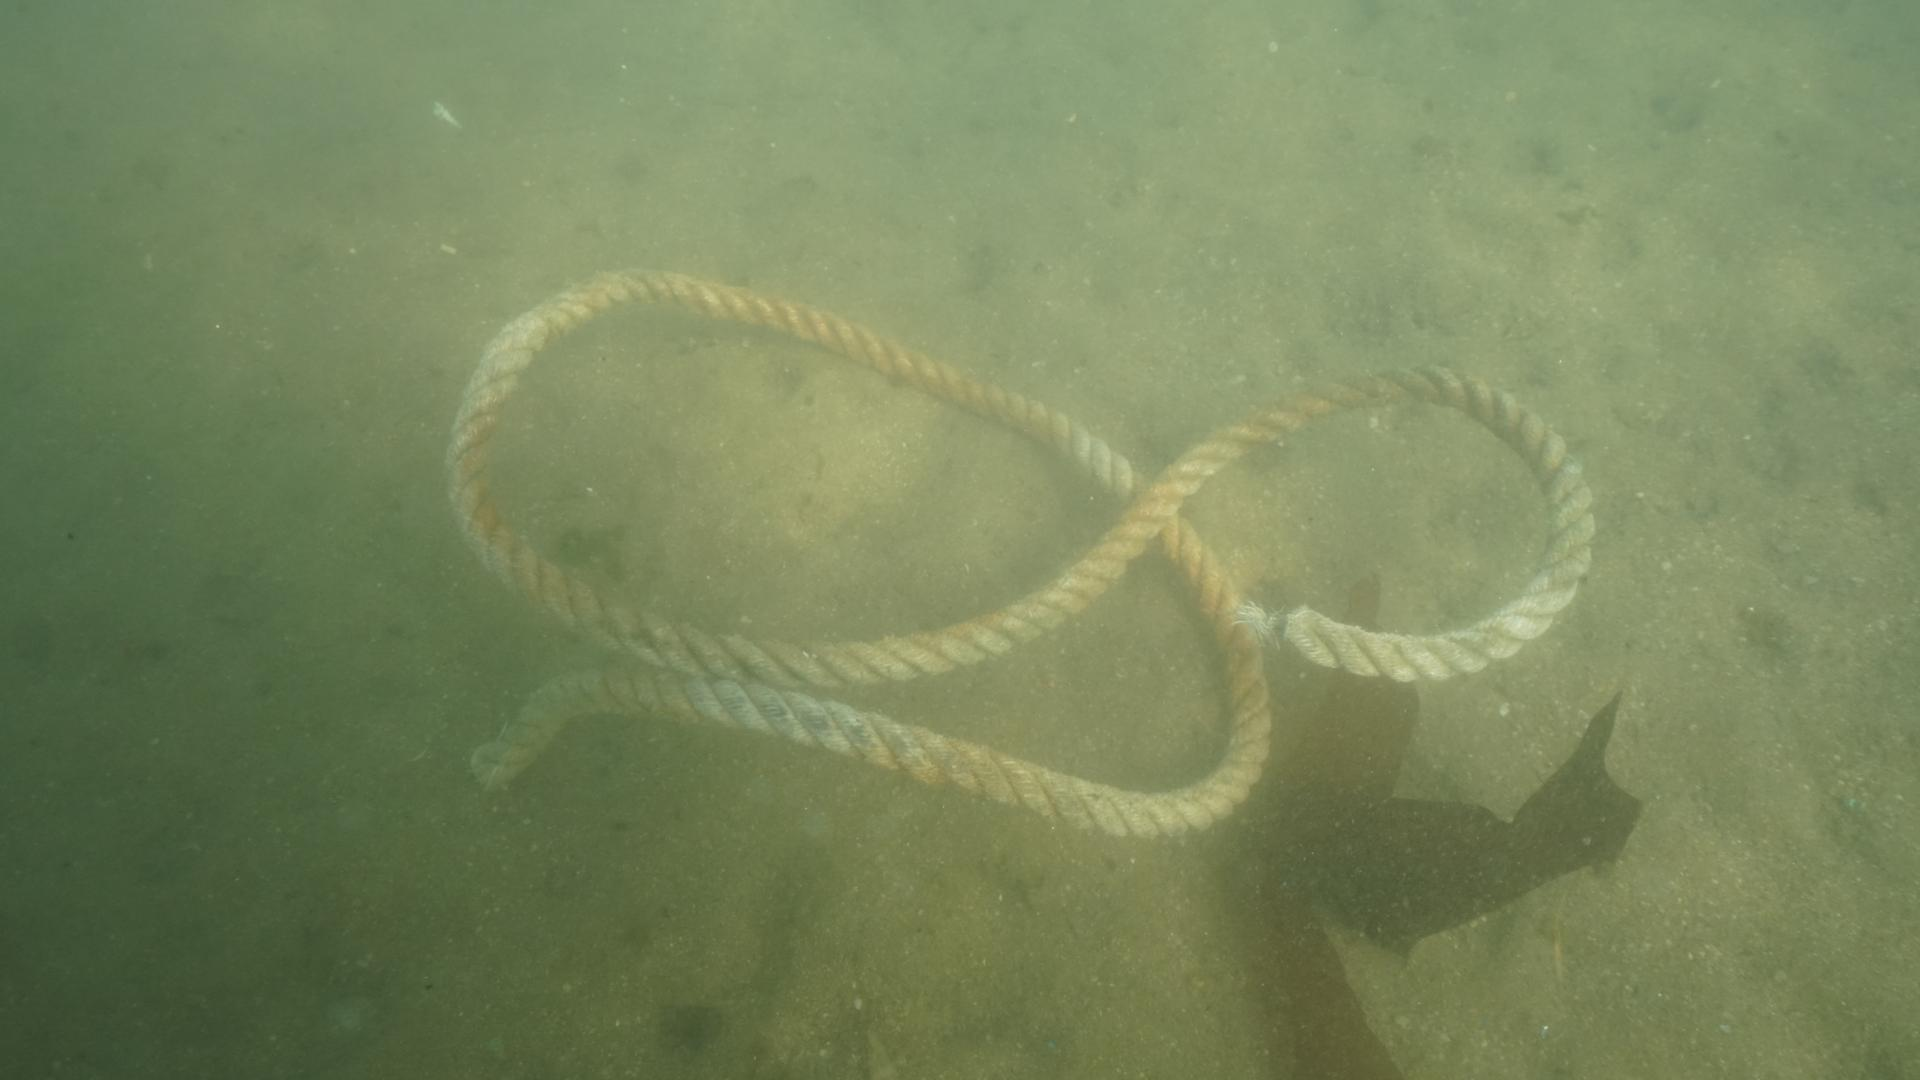rope: (436, 257, 1605, 851)
